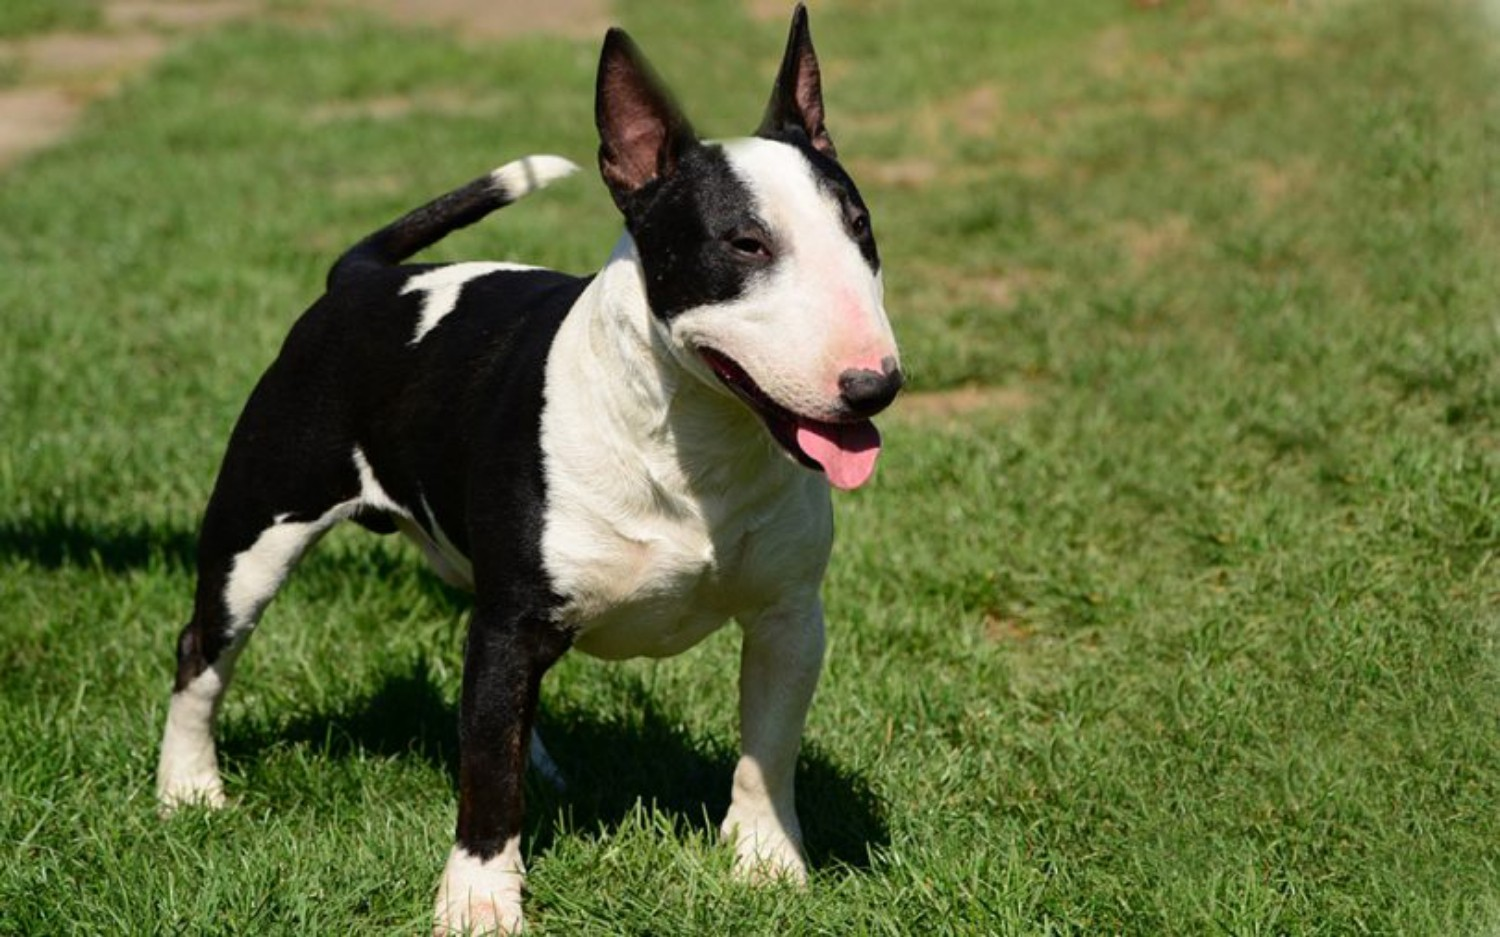bull_terrier: (152, 0, 904, 937)
